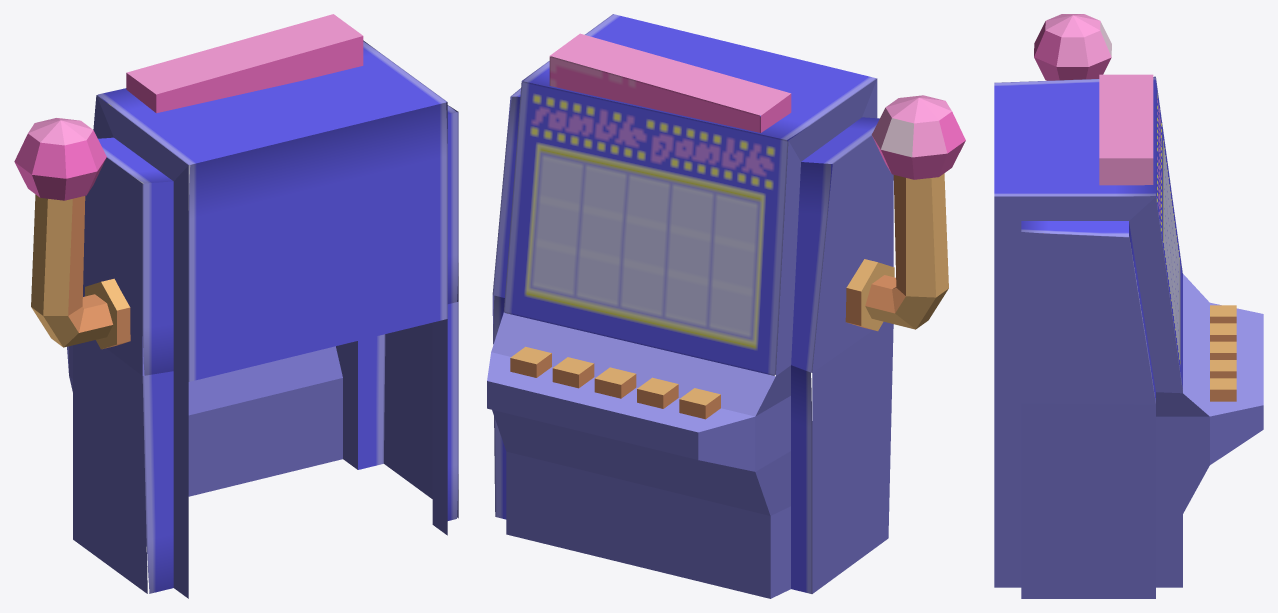
File: rg_slots.obj
3 views of the same model, side by side, from view 1: azimuth 30°, elevation 25°; view 2: azimuth 150°, elevation 25°; view 3: azimuth 270°, elevation 25° (orthographic). The views are drawn at different scales.
Visible parts, largest first — view 1: machine, arm; view 2: machine, arm, button2, button3, button4, button1, button5; view 3: machine, arm, button1, button3, button2, button4, button5.
Part boxes in pixels (left/top/right/bottom): machine: left=67, top=14, right=458, bottom=598; arm: left=14, top=118, right=130, bottom=349; machine: left=487, top=14, right=893, bottom=598; arm: left=845, top=95, right=965, bottom=331; button2: left=552, top=357, right=594, bottom=388; button3: left=594, top=367, right=636, bottom=398; button4: left=637, top=377, right=678, bottom=408; button1: left=510, top=346, right=551, bottom=377; button5: left=679, top=388, right=720, bottom=419; machine: left=994, top=74, right=1263, bottom=598; arm: left=1034, top=14, right=1111, bottom=233; button1: left=1210, top=378, right=1236, bottom=401; button3: left=1210, top=341, right=1236, bottom=359; button2: left=1210, top=360, right=1236, bottom=378; button4: left=1210, top=323, right=1236, bottom=341; button5: left=1210, top=305, right=1236, bottom=323.
Bounding box in the file's own units: 0.9877 × 1.08 × 0.625.
Materials: 1 (1 with a texture image).
